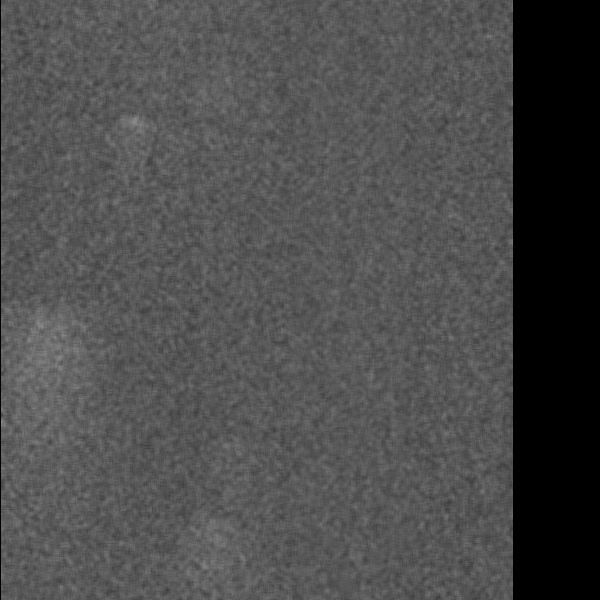spark: (181, 561, 233, 597), (1, 487, 39, 527), (94, 158, 127, 197), (480, 568, 507, 600), (430, 354, 446, 384)
